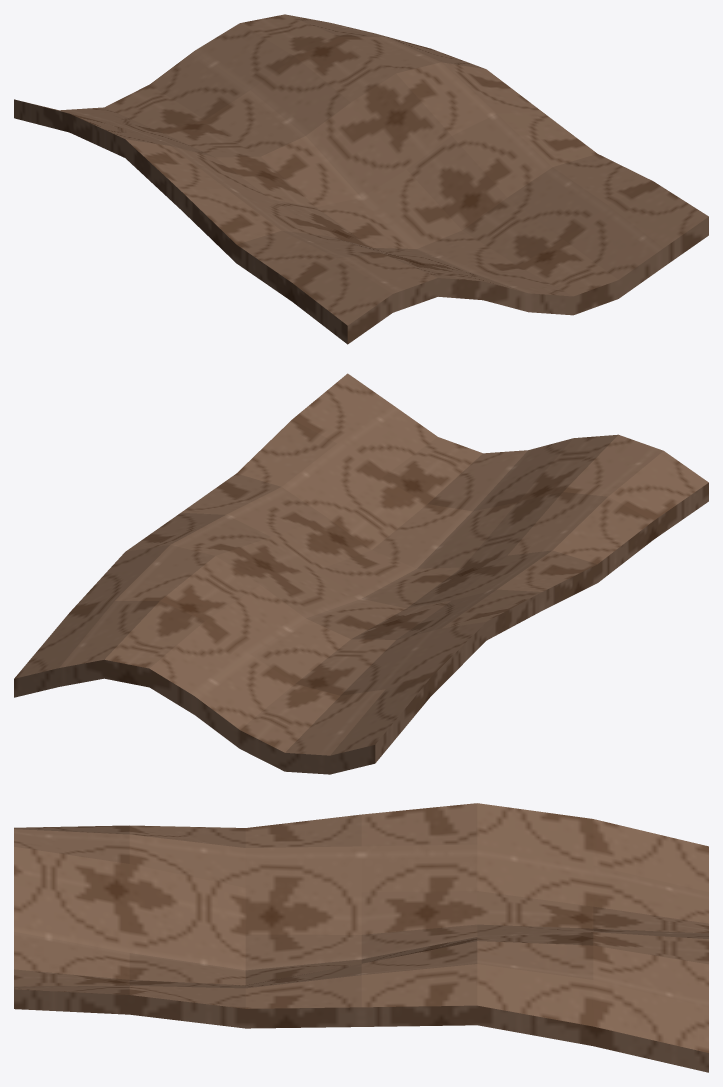
The model's file is MD_100_Towel.fbx.
3 renders of one model, top to bottom at view 1: azimuth 30°, elevation 25°; view 2: azimuth 150°, elevation 25°; view 3: azimuth 270°, elevation 25°, orthographic. The views are drawn at different scales.
Visible parts, largest first — view 1: MD_100_Towel_stitched_quilt; view 2: MD_100_Towel_stitched_quilt; view 3: MD_100_Towel_stitched_quilt.
Boxes of the visible parts, <box> form: MD_100_Towel_stitched_quilt: <box>14,14,708,344</box>; MD_100_Towel_stitched_quilt: <box>14,373,708,774</box>; MD_100_Towel_stitched_quilt: <box>14,803,708,1072</box>.
Size of the model in its own units: 0.5 by 0.1237 by 0.8.
1 material, 1 textured.
